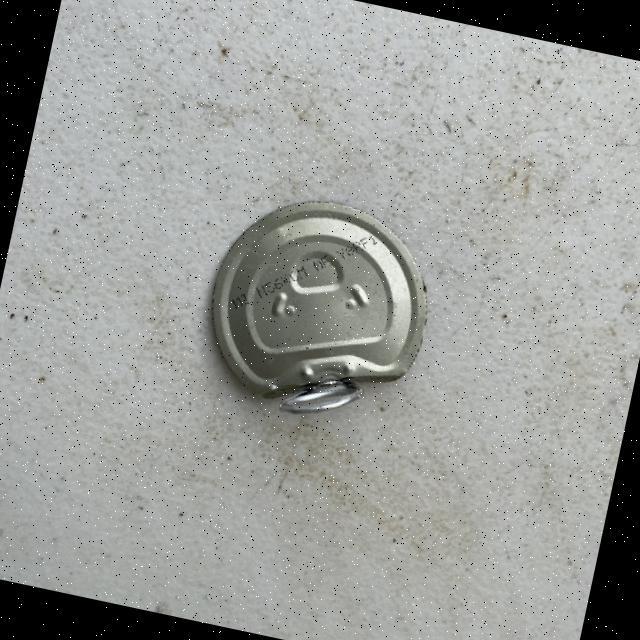metal: (188, 179, 446, 436)
